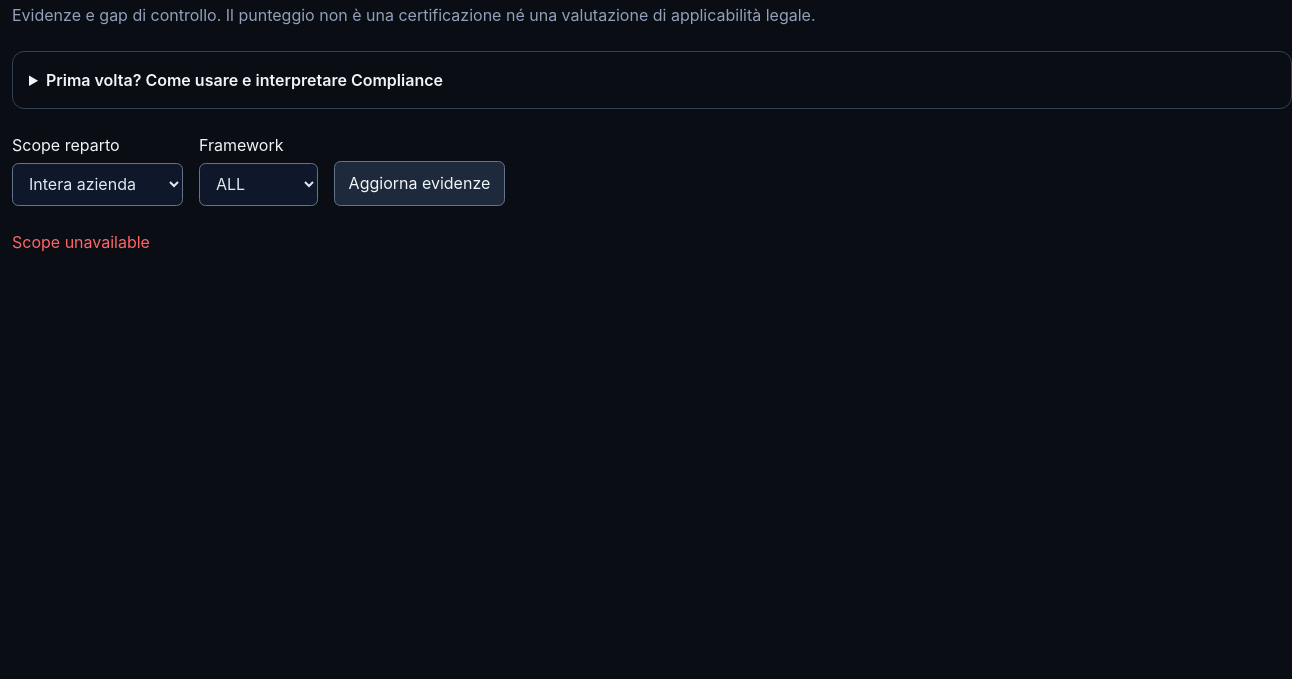
Test: Compliance evidence and scope › reports errors and allows a fresh retry
The width and height of the screenshot is (1292, 679).
Expected: the message reads "Scope unavailable", [12,232,150,252]
Click the button "Aggiorna evidenze" at (419, 183), box [334,161,505,206]
(page scrolled)
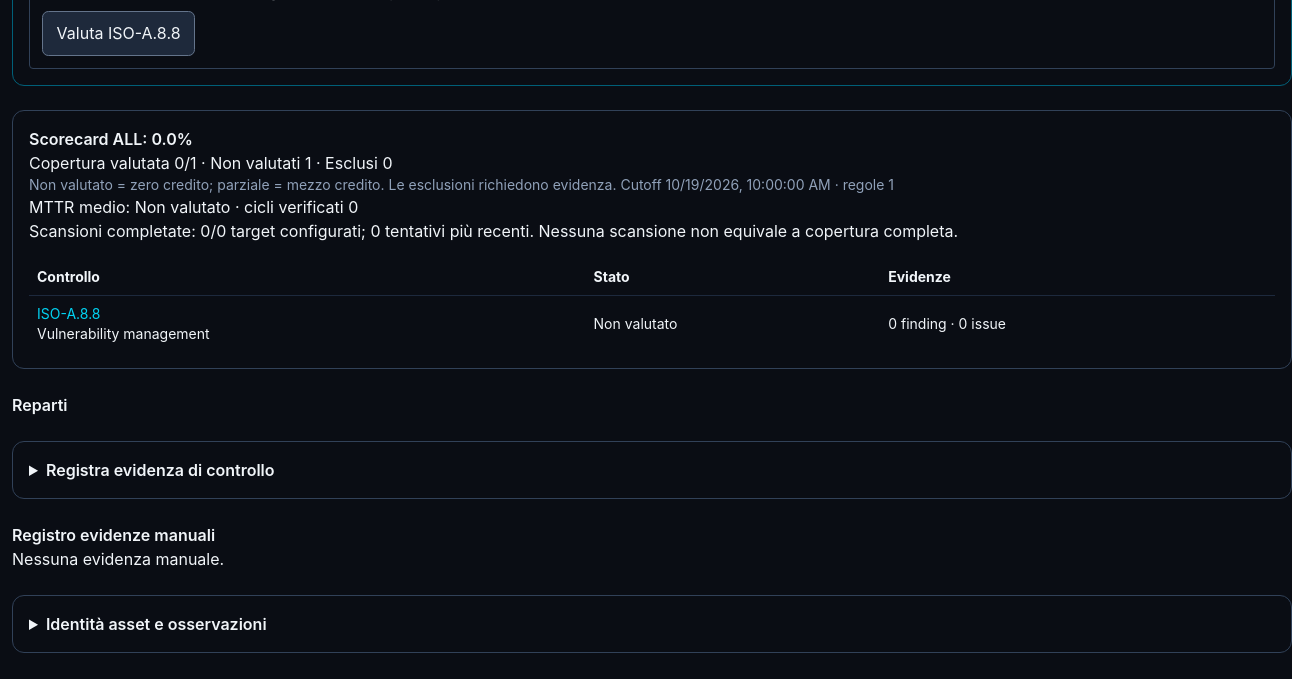
Result: the cell "Non valutato" is shown at [586,296,880,352]
Result: the message "Scope unavailable" is gone
